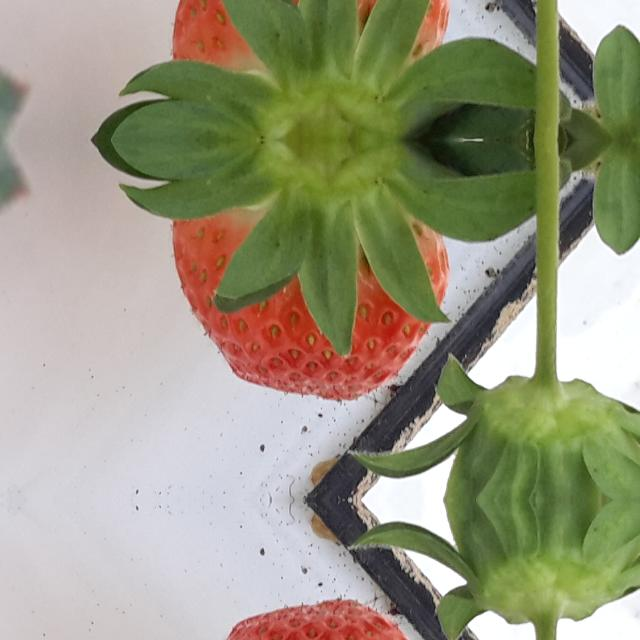Health_100: (170, 206, 450, 400), (170, 0, 449, 74), (170, 599, 449, 640)
